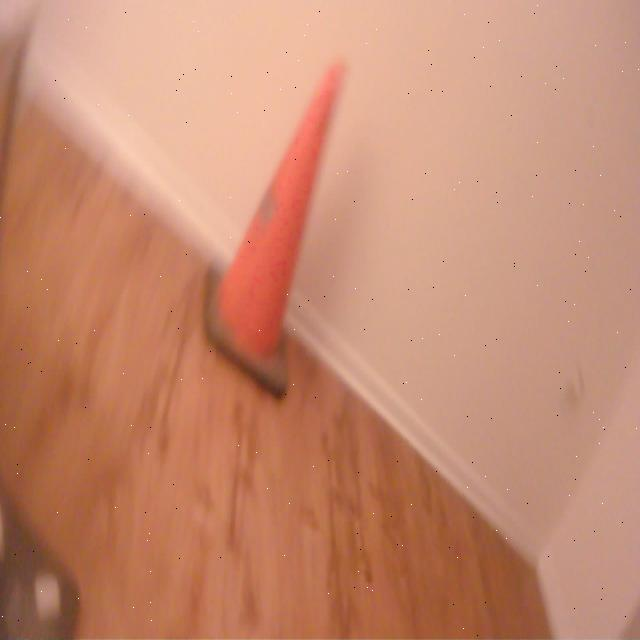traffic cone: (198, 50, 356, 406)
